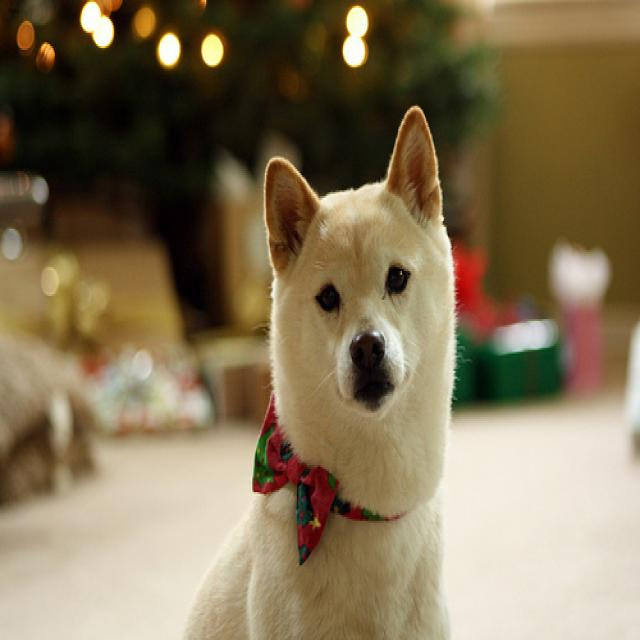dog-shiba_inu: (174, 100, 465, 636)
